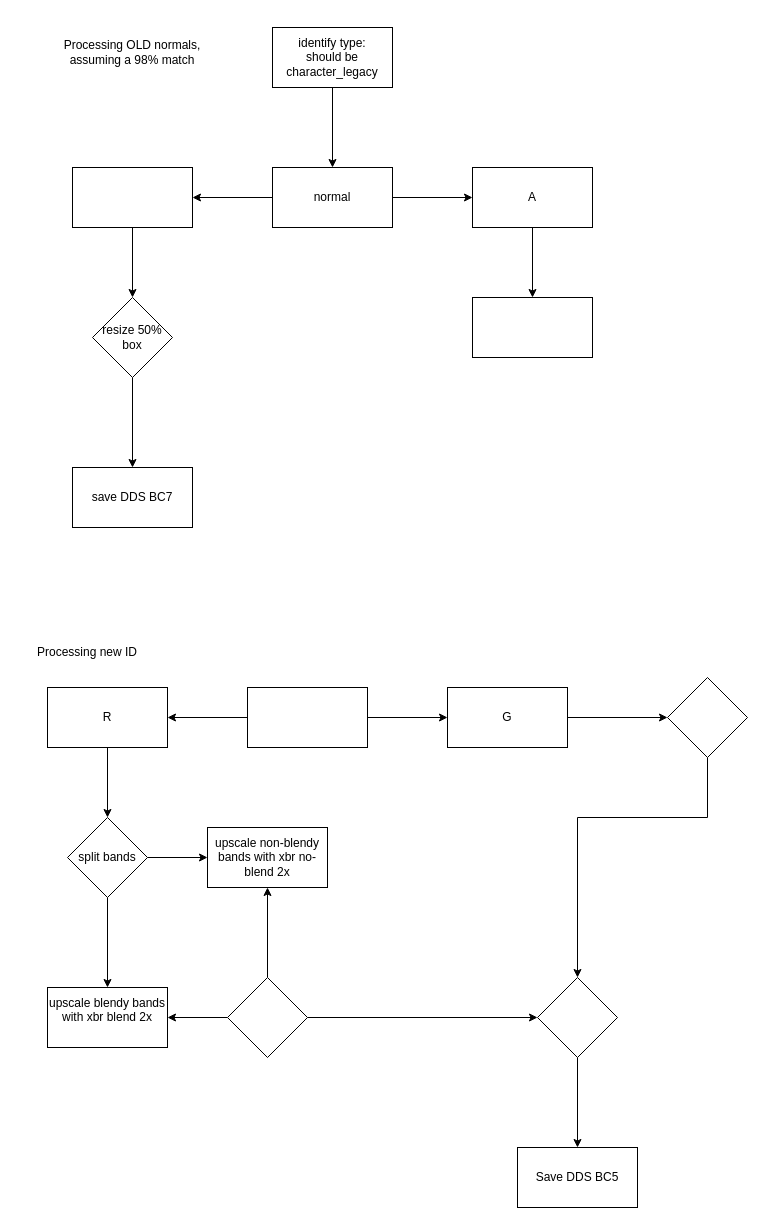
This 765x1225 diagram has some shape labels left out. Here are the shapes that lost their labels. From the top down, the box of each, then its label:
(72, 166, 192, 228): RGB
(472, 296, 592, 358): discard
(246, 686, 368, 748): ID
(666, 676, 748, 758): some kind of 2x upscale
(226, 976, 308, 1058): merge bands
(536, 976, 618, 1058): merge
